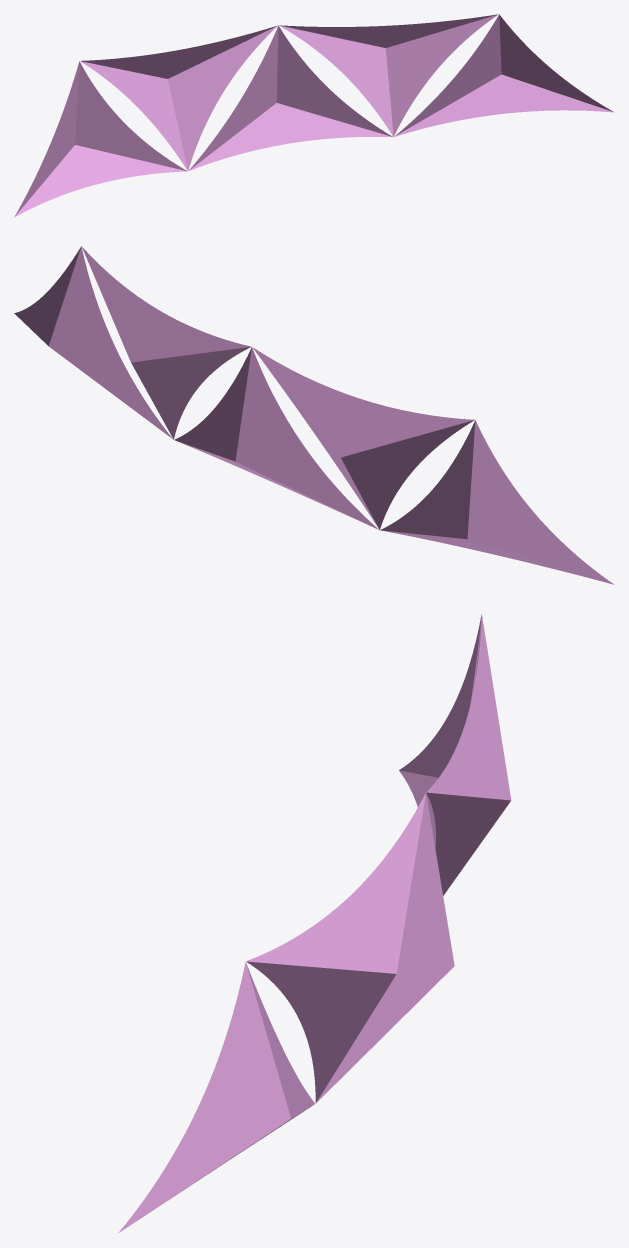
The model's file is TYPE19-3.glb.
3 renders of one model, top to bottom at view 1: azimuth 30°, elevation 25°; view 2: azimuth 150°, elevation 25°; view 3: azimuth 270°, elevation 25°, orthographic. The views are drawn at different scales.
Parts seen in each view (by area): view 1: TYPE19-3 (×15); view 2: TYPE19-3 (×13); view 3: TYPE19-3 (×9).
Part boxes in pixels (left/top/right/bottom): TYPE19-3 (×15): left=14, top=14, right=614, bottom=217; TYPE19-3 (×13): left=14, top=246, right=613, bottom=584; TYPE19-3 (×9): left=118, top=614, right=511, bottom=1232.
Size of the model in its own units: 25.33 by 5.59 by 8.14.
